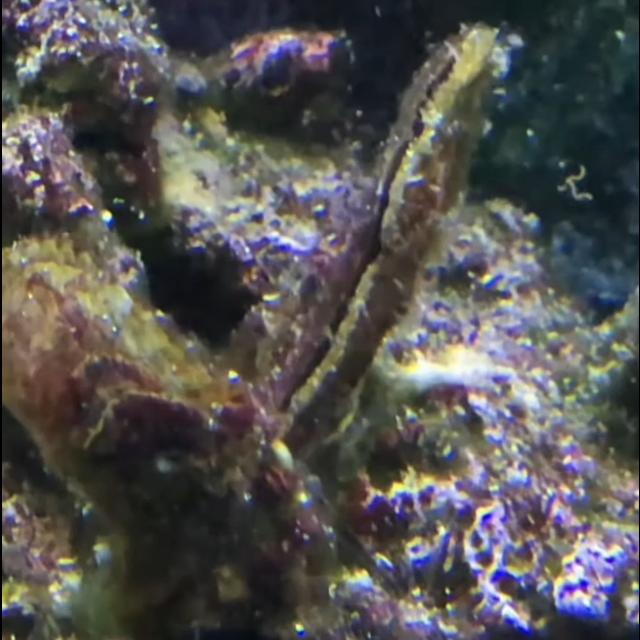Oyster-Closed: (225, 26, 510, 462), (0, 240, 302, 604)
